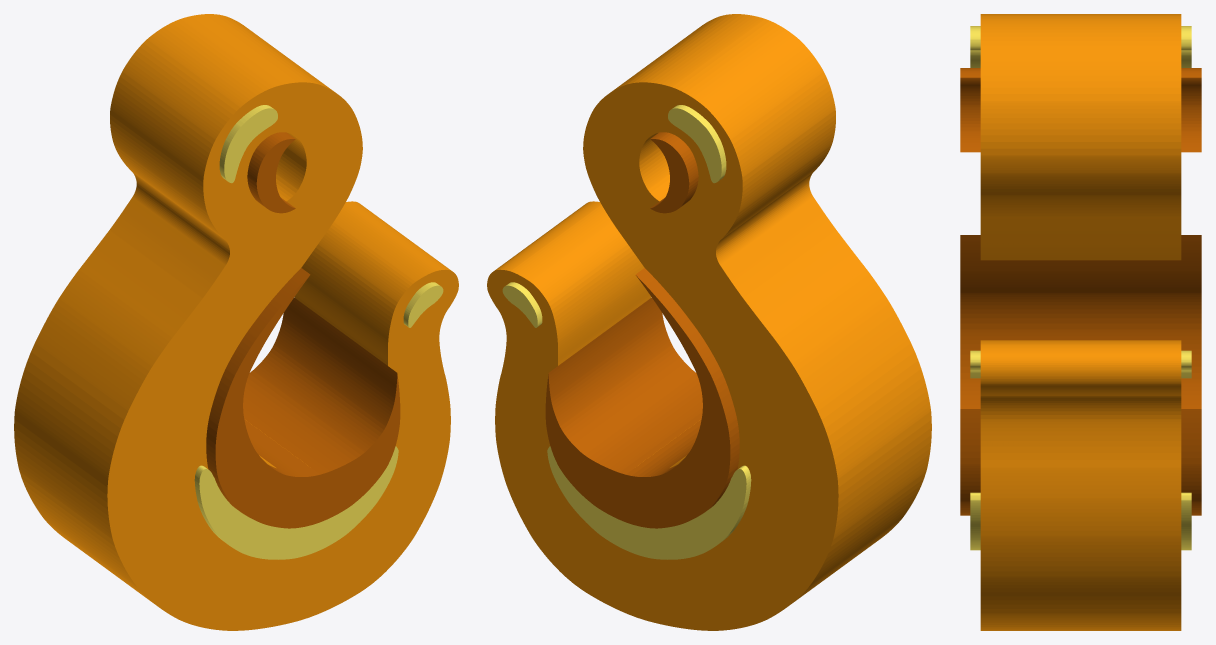
The picture shows the model from 3 angles, left to right: view 1: azimuth 30°, elevation 25°; view 2: azimuth 150°, elevation 25°; view 3: azimuth 270°, elevation 25°; orthographic projection. The views are drawn at different scales.
Visible parts, largest first — view 1: U+1FA9D_layer00_obj00, U+1FA9D_layer02_obj01, U+1FA9D_layer01_obj00, U+1FA9D_layer00_obj01, U+1FA9D_layer02_obj00, U+1FA9D_layer01_obj01, U+1FA9D_layer01_obj02; view 2: U+1FA9D_layer00_obj00, U+1FA9D_layer02_obj01, U+1FA9D_layer01_obj00, U+1FA9D_layer00_obj01, U+1FA9D_layer02_obj00, U+1FA9D_layer01_obj01, U+1FA9D_layer01_obj02; view 3: U+1FA9D_layer00_obj00, U+1FA9D_layer02_obj01, U+1FA9D_layer02_obj00, U+1FA9D_layer01_obj00, U+1FA9D_layer01_obj01, U+1FA9D_layer01_obj02.
Boxes of the visible parts, x1=… form: U+1FA9D_layer00_obj00: x1=14, y1=14, x2=458, y2=630; U+1FA9D_layer02_obj01: x1=206, y1=268, x2=400, y2=528; U+1FA9D_layer01_obj00: x1=194, y1=446, x2=398, y2=559; U+1FA9D_layer00_obj01: x1=203, y1=113, x2=362, y2=223; U+1FA9D_layer02_obj00: x1=247, y1=132, x2=295, y2=213; U+1FA9D_layer01_obj01: x1=219, y1=105, x2=277, y2=183; U+1FA9D_layer01_obj02: x1=403, y1=282, x2=443, y2=327; U+1FA9D_layer00_obj00: x1=487, y1=14, x2=931, y2=630; U+1FA9D_layer02_obj01: x1=545, y1=268, x2=739, y2=528; U+1FA9D_layer01_obj00: x1=547, y1=446, x2=751, y2=559; U+1FA9D_layer00_obj01: x1=583, y1=113, x2=742, y2=223; U+1FA9D_layer02_obj00: x1=650, y1=132, x2=698, y2=213; U+1FA9D_layer01_obj01: x1=668, y1=105, x2=726, y2=183; U+1FA9D_layer01_obj02: x1=502, y1=282, x2=542, y2=327; U+1FA9D_layer00_obj00: x1=980, y1=14, x2=1181, y2=630; U+1FA9D_layer02_obj01: x1=960, y1=235, x2=1201, y2=515; U+1FA9D_layer02_obj00: x1=960, y1=68, x2=1201, y2=152; U+1FA9D_layer01_obj00: x1=970, y1=492, x2=1191, y2=550; U+1FA9D_layer01_obj01: x1=970, y1=26, x2=1191, y2=67; U+1FA9D_layer01_obj02: x1=970, y1=350, x2=1191, y2=378.
Size of the model in its own units: 0.2173 by 0.3192 by 0.12.
